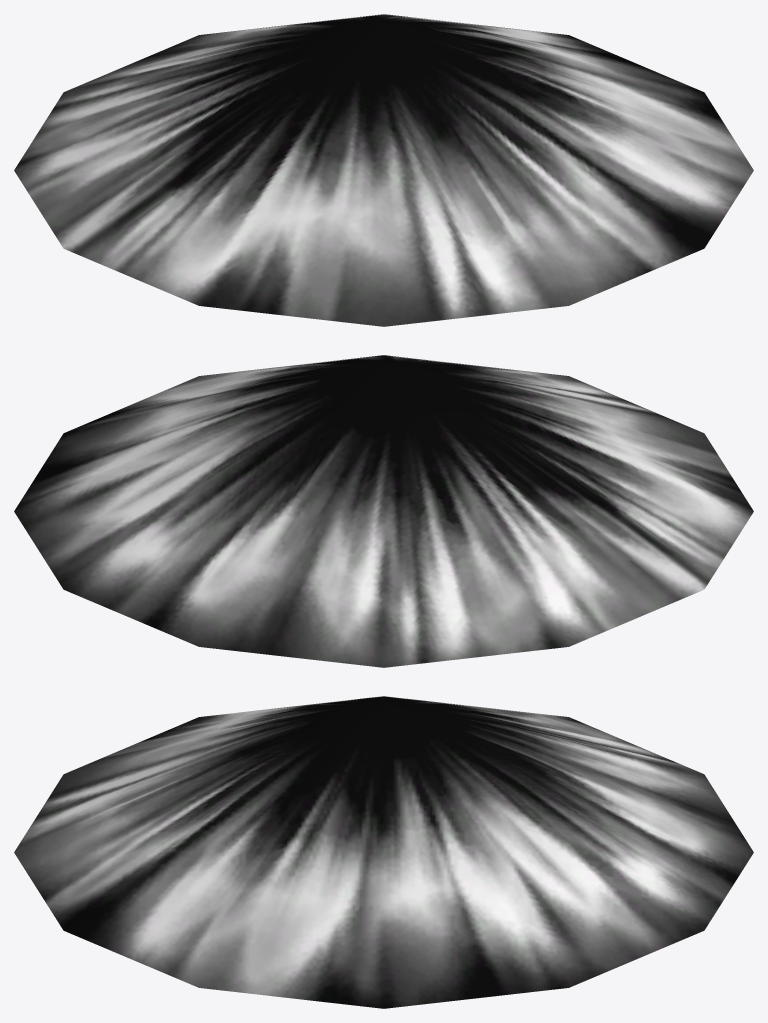
Rendered from san_01.fbx.
3 renders of one model, top to bottom at view 1: azimuth 30°, elevation 25°; view 2: azimuth 150°, elevation 25°; view 3: azimuth 270°, elevation 25°, orthographic.
Visible parts, largest first — view 1: Torus001; view 2: Torus001; view 3: Torus001.
Boxes of the visible parts, <box> form: Torus001: <box>14,14,753,326</box>; Torus001: <box>14,355,753,667</box>; Torus001: <box>14,696,753,1008</box>.
Bounding box in the file's own units: 179 × 39.16 × 179.
